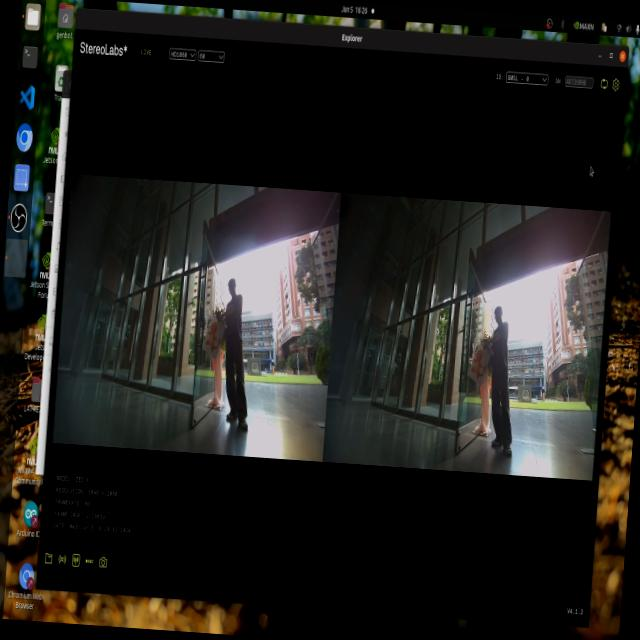red: (464, 346, 488, 385), (205, 313, 220, 353)
